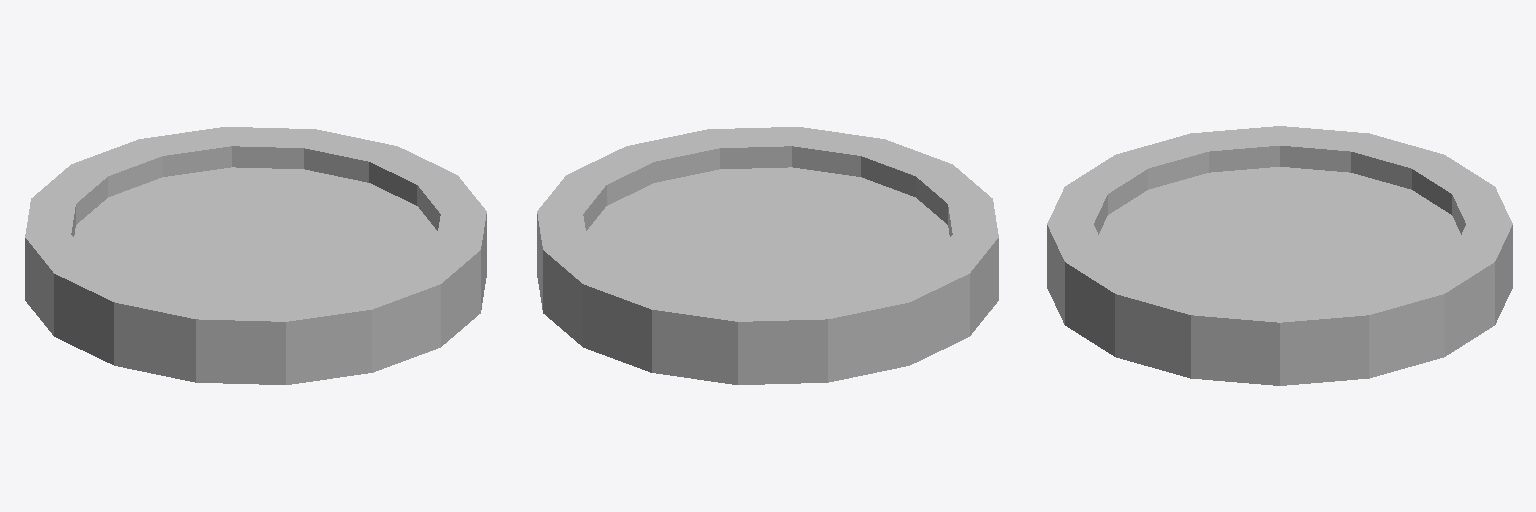
The model's file is coin-blank.obj.
3 renders of one model, left to right at view 1: azimuth 30°, elevation 25°; view 2: azimuth 150°, elevation 25°; view 3: azimuth 270°, elevation 25°, orthographic.
Parts seen in each view (by area): view 1: coin_Cylinder; view 2: coin_Cylinder; view 3: coin_Cylinder.
Part boxes in pixels (bbox=[...]): coin_Cylinder: bbox=[25, 127, 486, 384]; coin_Cylinder: bbox=[537, 127, 998, 384]; coin_Cylinder: bbox=[1047, 126, 1512, 385].
Size of the model in its own units: 20 by 3 by 20.